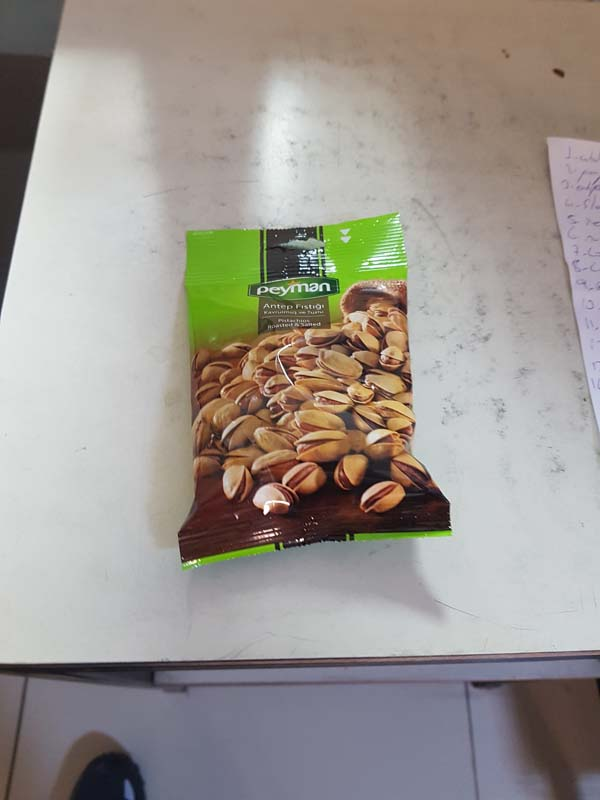antepfistigi: (171, 211, 459, 571)
